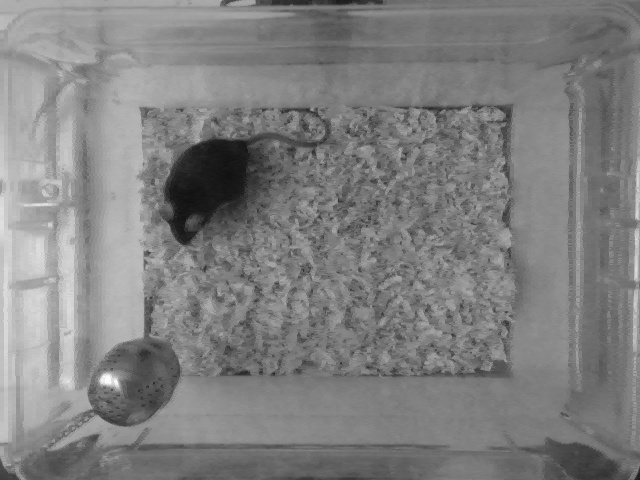mice: (160, 100, 335, 249)
